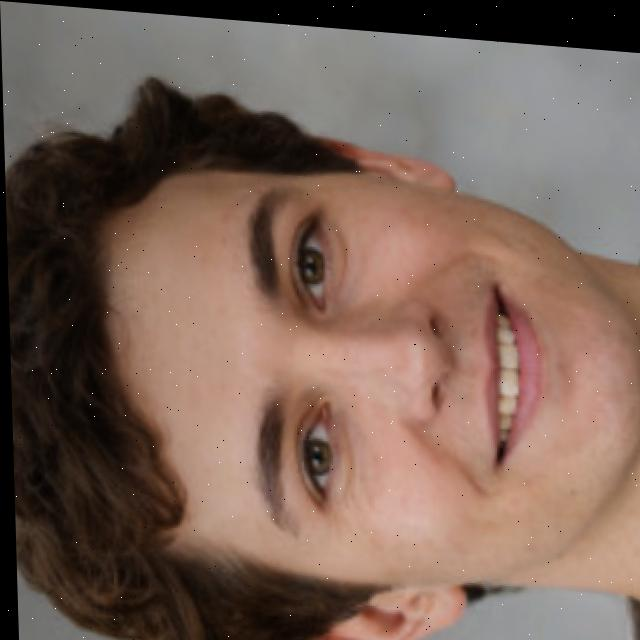happy: (2, 95, 616, 640)
